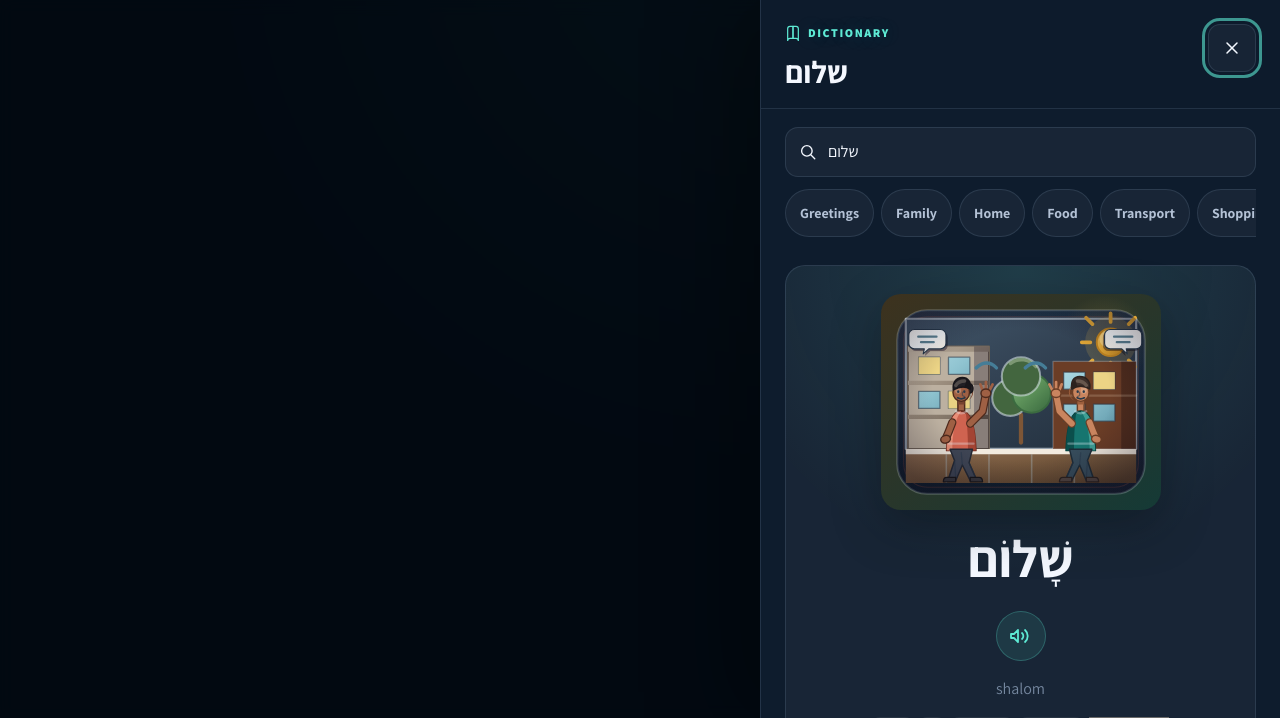
Scenario: DictionaryDrawer › reports app-managed audio playback failures
This screenshot has width=1280, height=718.
Click the button named "Pronunciation" at (1020, 636), box top-left (996, 611), bottom-right (1046, 661)
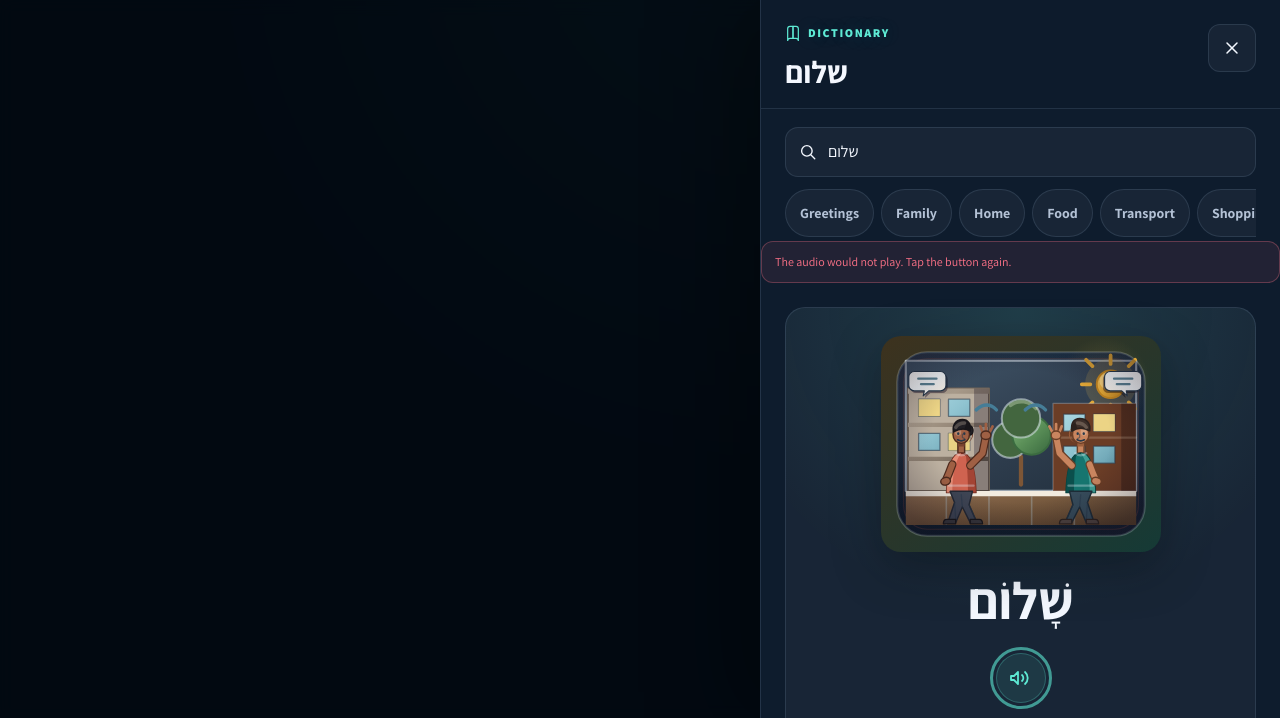
Now the text "The audio would not play. Tap the button again." is shown, box top-left (761, 241), bottom-right (1279, 283)
